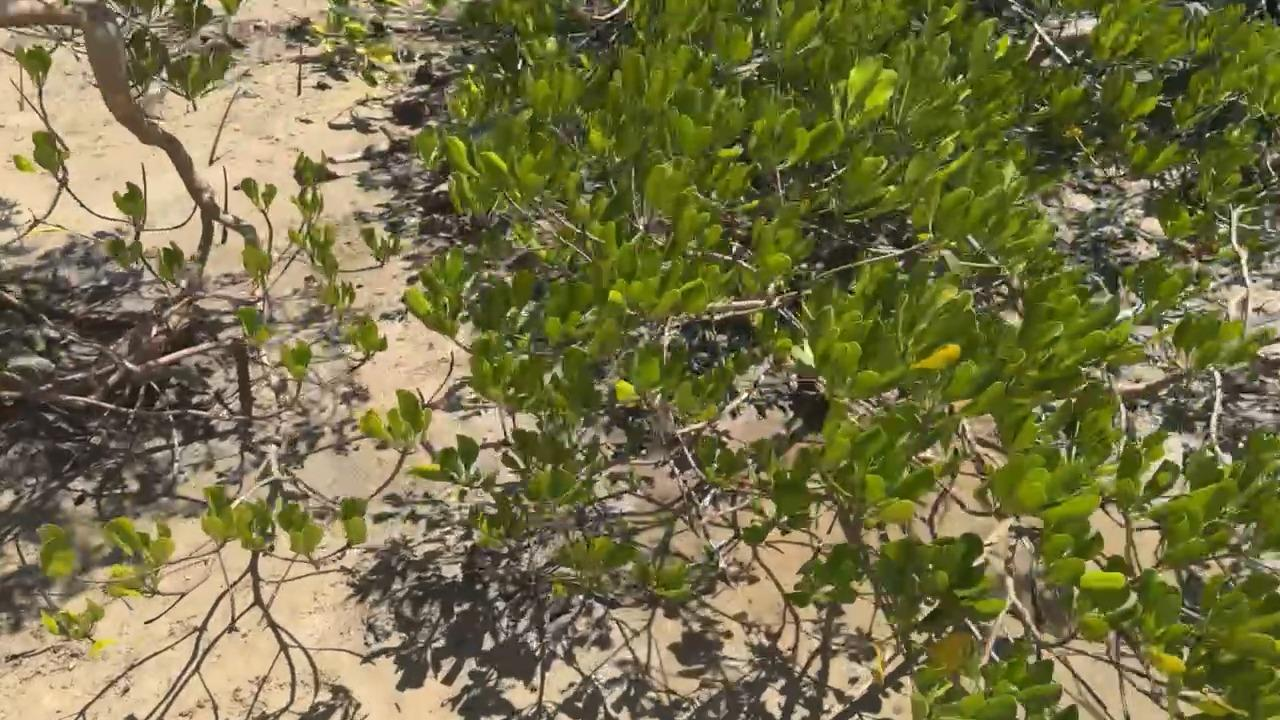Tree: (14, 535, 59, 611), (208, 84, 241, 167), (215, 542, 236, 635), (220, 161, 230, 247), (296, 42, 306, 97), (17, 60, 25, 112)
